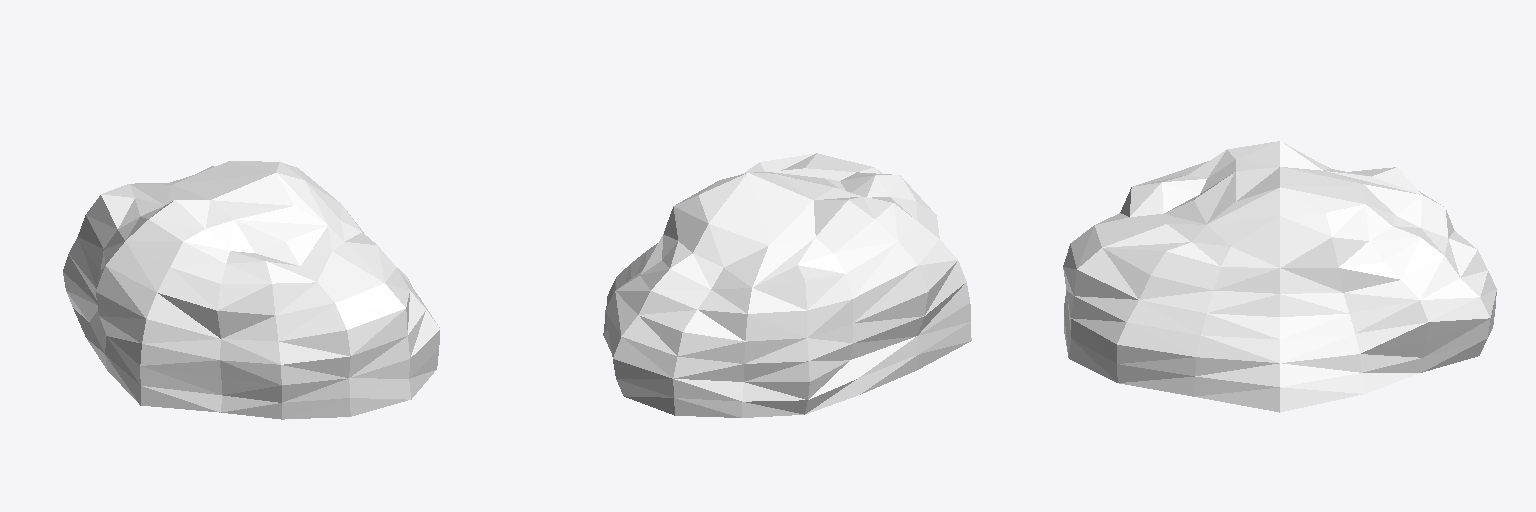
The model's file is boulder1.obj.
3 renders of one model, left to right at view 1: azimuth 30°, elevation 25°; view 2: azimuth 150°, elevation 25°; view 3: azimuth 270°, elevation 25°, orthographic.
Visible parts, largest first — view 1: Cube_Cube.001; view 2: Cube_Cube.001; view 3: Cube_Cube.001.
Boxes of the visible parts, x1,y1,x2,y2 form: Cube_Cube.001: [63, 161, 439, 419]; Cube_Cube.001: [603, 153, 971, 417]; Cube_Cube.001: [1063, 141, 1496, 412].
Size of the model in its own units: 6.01 by 2.81 by 7.05.